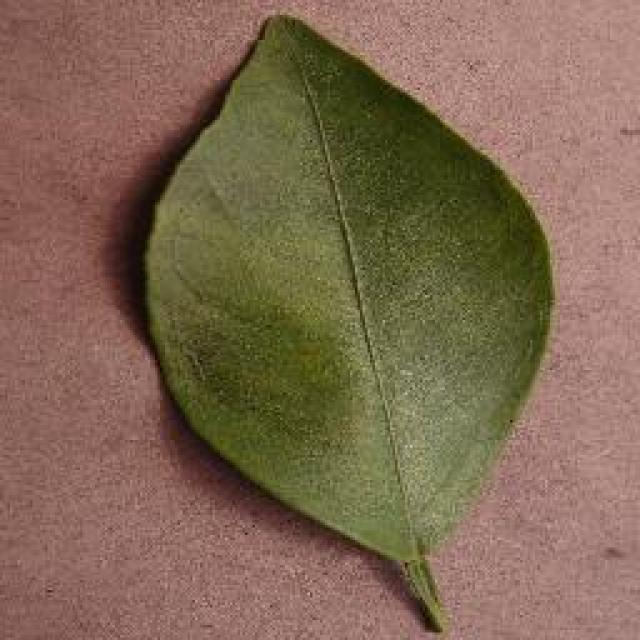Orange_Haunglongbing_Citrus_greening: (175, 108, 575, 532)
